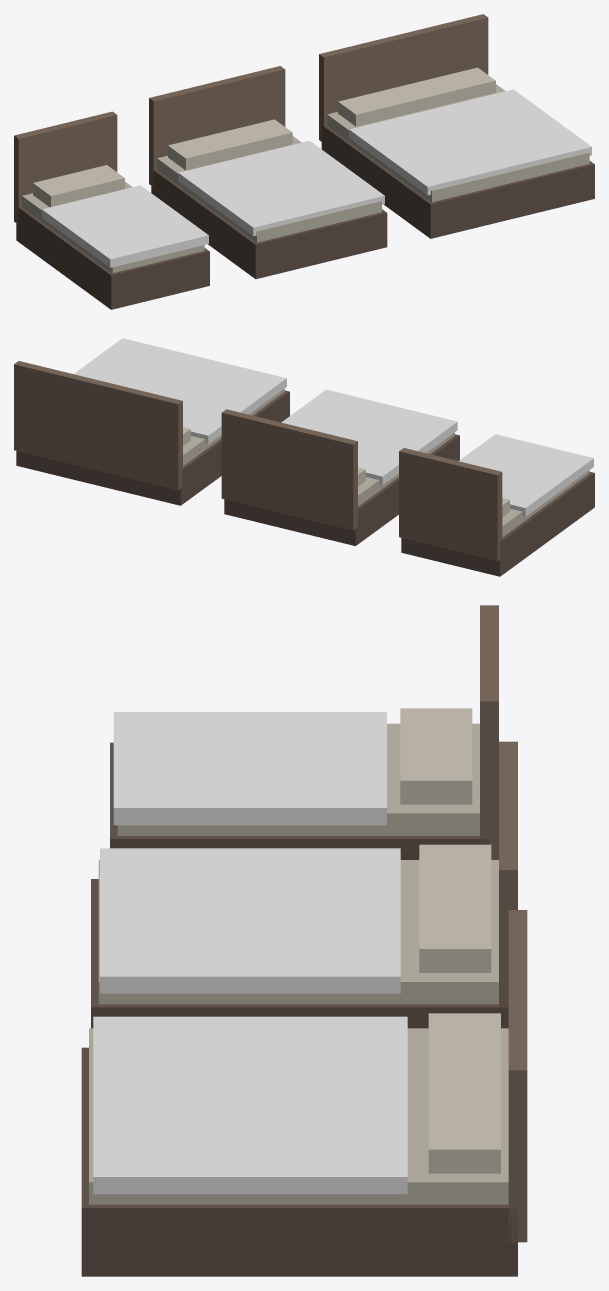
File: cama.glb
3 views of the same model, one above another, from view 1: azimuth 30°, elevation 25°; view 2: azimuth 150°, elevation 25°; view 3: azimuth 270°, elevation 25° (orthographic). The views are drawn at different scales.
Visible parts, largest first — view 1: Cama_200x230, Cama_160x220, Cama_120x200; view 2: Cama_200x230, Cama_160x220, Cama_120x200; view 3: Cama_200x230, Cama_160x220, Cama_120x200.
Boxes of the visible parts, box(x1,y1,x2,y2) form: Cama_200x230: box(319, 14, 594, 238); Cama_160x220: box(149, 66, 387, 279); Cama_120x200: box(14, 111, 209, 309); Cama_200x230: box(14, 338, 289, 505); Cama_160x220: box(221, 389, 459, 545); Cama_120x200: box(399, 434, 594, 576); Cama_200x230: box(81, 910, 527, 1276); Cama_160x220: box(91, 741, 517, 1028); Cama_120x200: box(110, 605, 498, 859).
Bounding box in the file's own units: 5.8 × 1.2 × 2.35.
